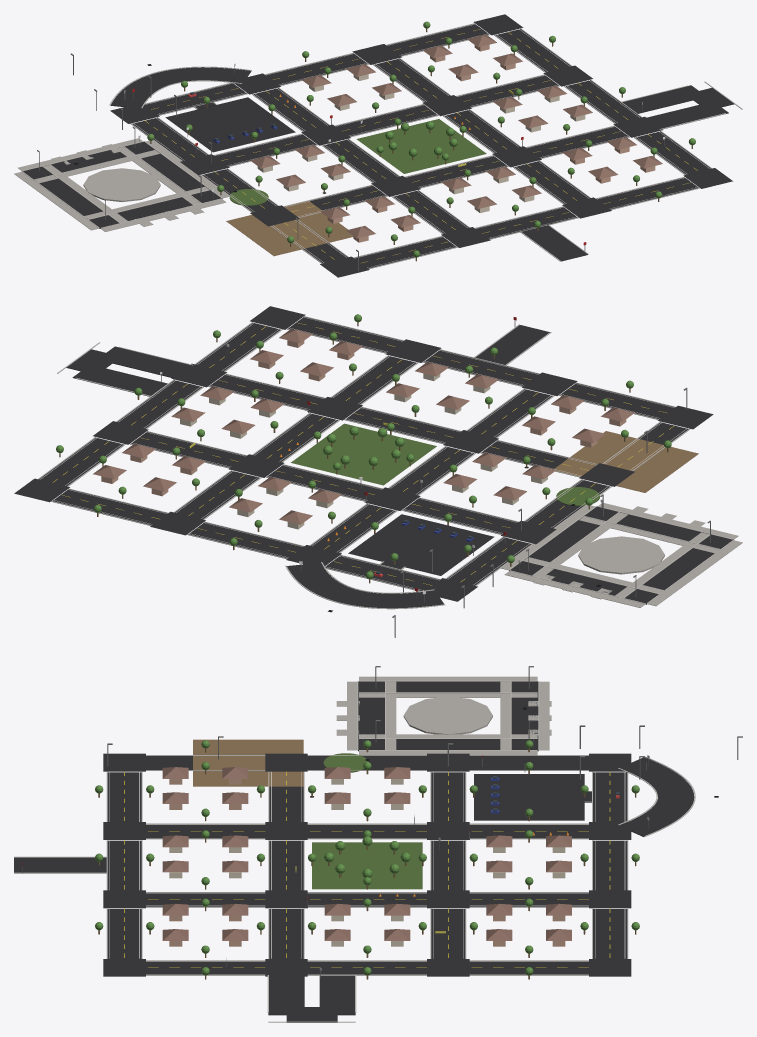
The model's file is city.fbx.
3 renders of one model, top to bottom at view 1: azimuth 30°, elevation 25°; view 2: azimuth 150°, elevation 25°; view 3: azimuth 270°, elevation 25°, orthographic. The views are drawn at different scales.
Visible parts, largest first — view 1: ParkingLot, CentralPark, DirtPatch, NorthCurve, ParkPathOuter_cut, Street_y-114_seg2, Street_y-114_seg0, Street_y-38_seg1, Street_y-114_seg1, Avenue_x114_seg0, Avenue_x114_seg1, Avenue_x38_seg1 (+50 smaller); view 2: ParkingLot, CentralPark, DirtPatch, NorthCurve, ParkPathOuter_cut, Street_y0_seg1, Street_y0_seg2, Street_y-38_seg0, Street_y-76_seg1, Avenue_x114_seg0, Avenue_x114_seg1, Avenue_x38_seg2 (+50 smaller); view 3: ParkingLot, CentralPark, DirtPatch, NorthCurve, ParkPathOuter_cut, Avenue_x38_seg1, Street_y0_seg1, Street_y-76_seg1, Street_y-114_seg1, Street_y-38_seg1, Avenue_x114_seg2, Avenue_x114_seg0 (+50 smaller).
Boxes of the visible parts, x1=… form: ParkingLot: x1=165, y1=97, x2=295, y2=152; CentralPark: x1=356, y1=119, x2=486, y2=173; DirtPatch: x1=226, y1=201, x2=353, y2=256; NorthCurve: x1=110, y1=67, x2=251, y2=106; ParkPathOuter_cut: x1=83, y1=168, x2=160, y2=201; Street_y-114_seg2: x1=595, y1=176, x2=699, y2=209; Street_y-114_seg0: x1=353, y1=236, x2=457, y2=269; Street_y-38_seg1: x1=334, y1=104, x2=438, y2=137; Street_y-114_seg1: x1=474, y1=206, x2=578, y2=239; Avenue_x114_seg0: x1=494, y1=28, x2=571, y2=72; Avenue_x114_seg1: x1=564, y1=79, x2=641, y2=123; Avenue_x38_seg1: x1=322, y1=138, x2=399, y2=182; ParkingLot: x1=348, y1=514, x2=494, y2=575; CentralPark: x1=291, y1=423, x2=436, y2=485; DirtPatch: x1=554, y1=431, x2=698, y2=492; NorthCurve: x1=287, y1=564, x2=443, y2=608; ParkPathOuter_cut: x1=578, y1=536, x2=664, y2=574; Street_y0_seg1: x1=187, y1=521, x2=304, y2=559; Street_y0_seg2: x1=51, y1=488, x2=168, y2=525; Street_y-38_seg0: x1=401, y1=497, x2=518, y2=534; Street_y-76_seg1: x1=344, y1=407, x2=461, y2=444; Avenue_x114_seg0: x1=37, y1=437, x2=125, y2=486; Avenue_x114_seg1: x1=116, y1=379, x2=203, y2=429; Avenue_x38_seg2: x1=466, y1=388, x2=554, y2=437; ParkingLot: x1=474, y1=774, x2=584, y2=820; CentralPark: x1=312, y1=842, x2=422, y2=889; DirtPatch: x1=193, y1=739, x2=303, y2=786; NorthCurve: x1=628, y1=757, x2=694, y2=836; ParkPathOuter_cut: x1=403, y1=696, x2=492, y2=734; Avenue_x38_seg1: x1=307, y1=823, x2=426, y2=839; Street_y0_seg1: x1=592, y1=840, x2=628, y2=890; Street_y-76_seg1: x1=268, y1=840, x2=304, y2=890; Street_y-114_seg1: x1=106, y1=840, x2=142, y2=890; Street_y-38_seg1: x1=430, y1=840, x2=466, y2=890; Avenue_x114_seg2: x1=146, y1=960, x2=265, y2=975; Avenue_x114_seg0: x1=469, y1=960, x2=588, y2=975.
Size of what is drawn, in the model's own units: 19220 by 614 by 17120.
